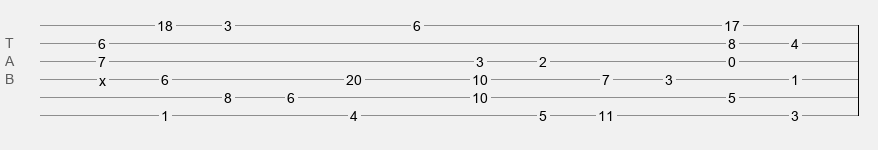0: (728, 54, 736, 64)
1: (161, 108, 169, 118), (791, 72, 799, 82)
10: (472, 90, 488, 100), (472, 72, 488, 82)
11: (598, 108, 614, 118)
17: (724, 18, 740, 28)
18: (157, 18, 173, 28)
2: (539, 54, 547, 64)
20: (346, 72, 362, 82)
3: (224, 18, 232, 28), (476, 54, 484, 64), (665, 72, 673, 82), (791, 108, 799, 118)
4: (350, 108, 358, 118), (791, 36, 799, 46)
5: (539, 108, 547, 118), (728, 90, 736, 100)
6: (98, 36, 106, 46), (161, 72, 169, 82), (287, 90, 295, 100), (413, 18, 421, 28)
7: (98, 54, 106, 64), (602, 72, 610, 82)
8: (224, 90, 232, 100), (728, 36, 736, 46)
x: (99, 73, 106, 81)
